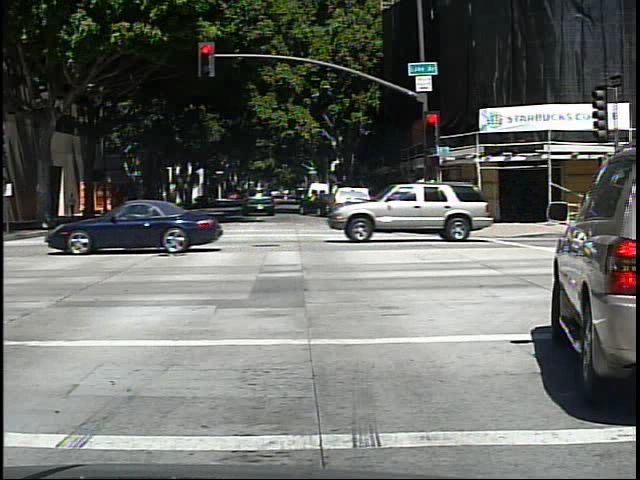person: (66, 189, 80, 220)
